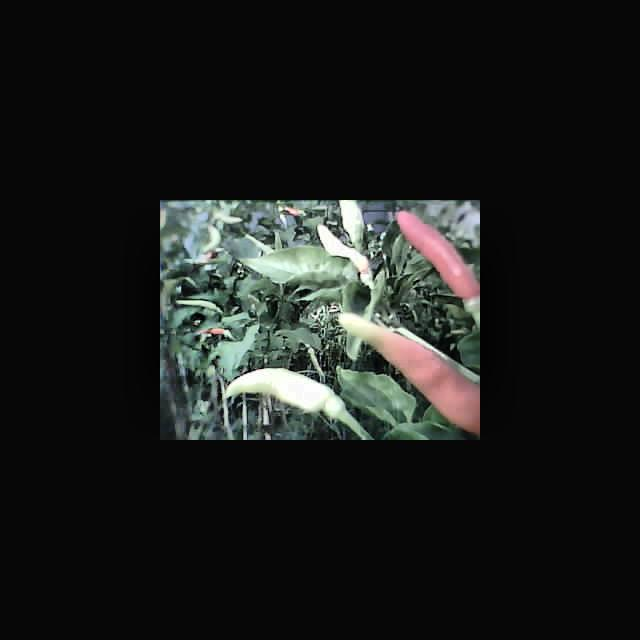Cabai: (340, 308, 480, 421), (393, 210, 480, 319), (191, 327, 238, 346)
